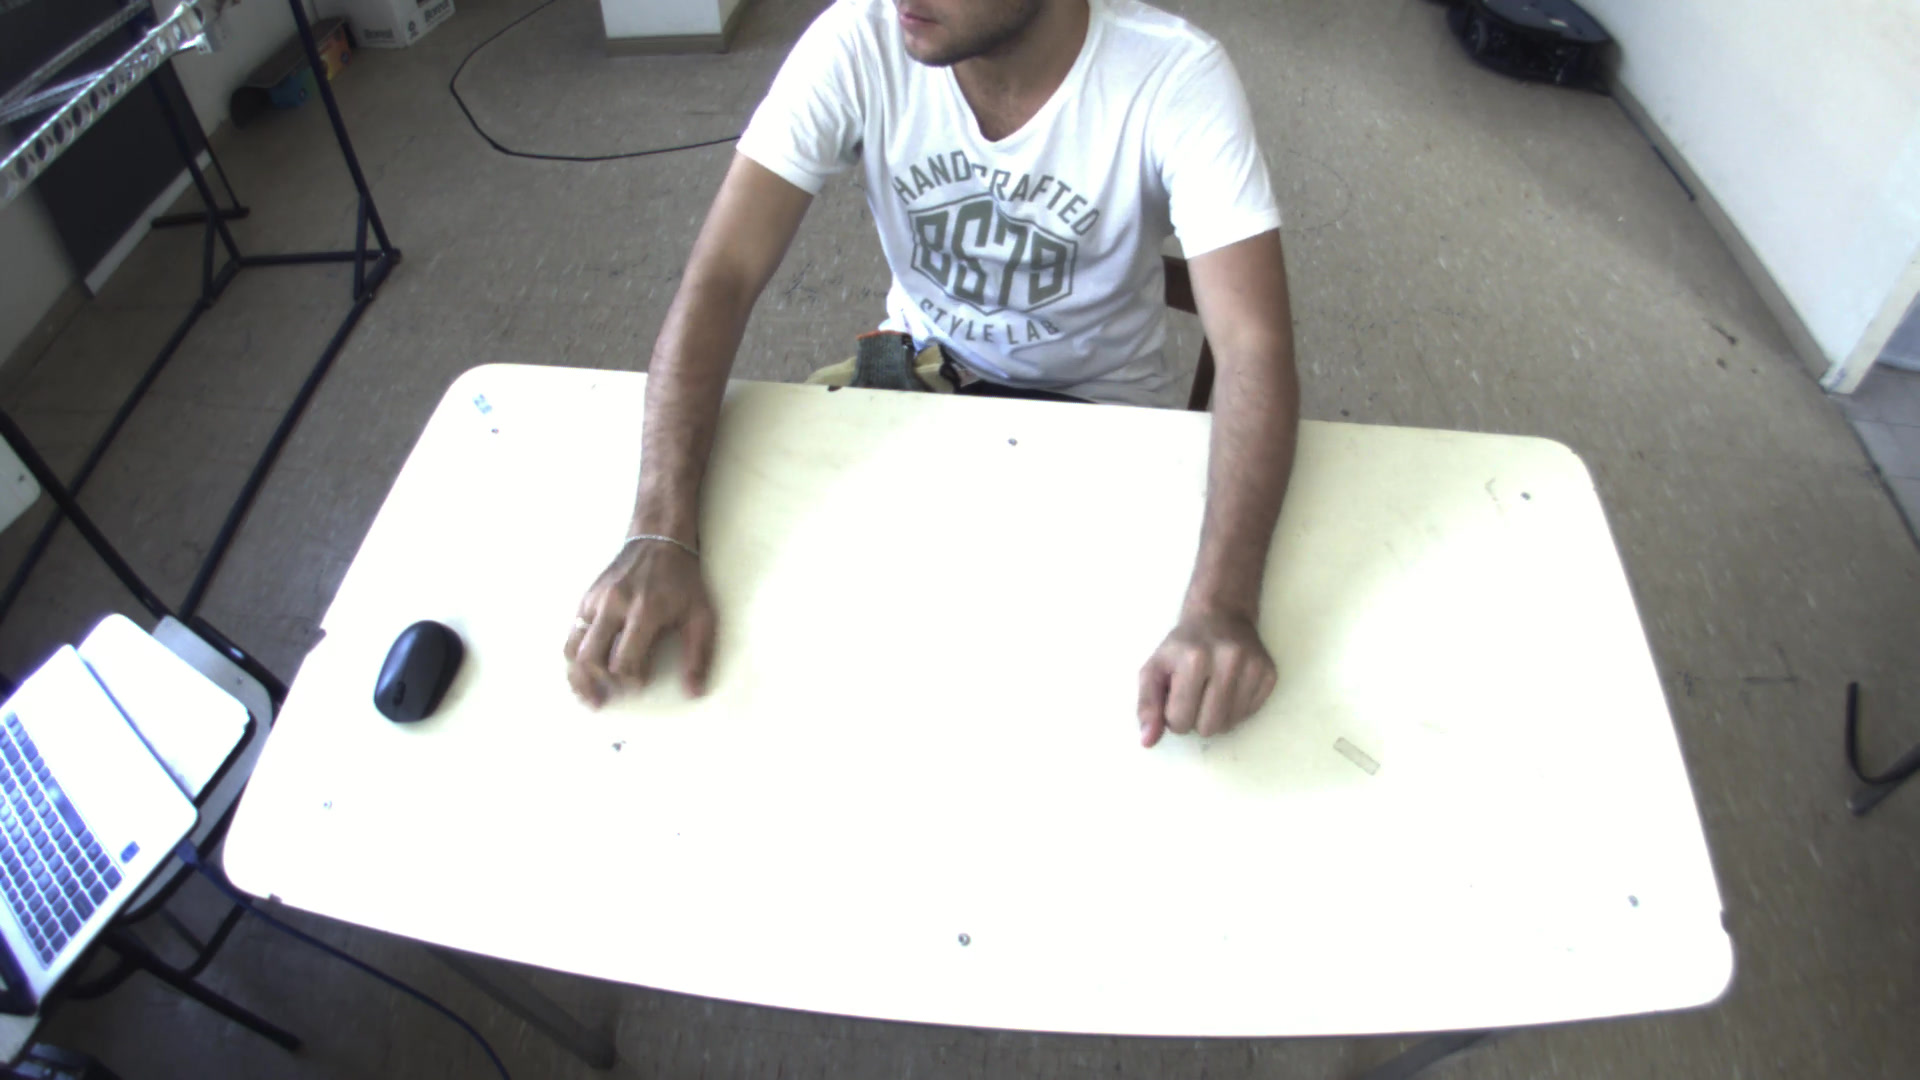hand: (562, 520, 733, 711), (1130, 592, 1294, 745)
